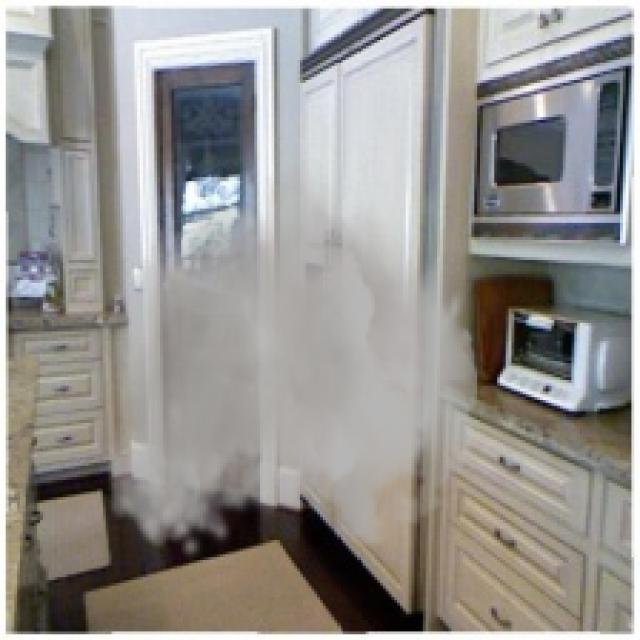smoke: (106, 146, 477, 560)
